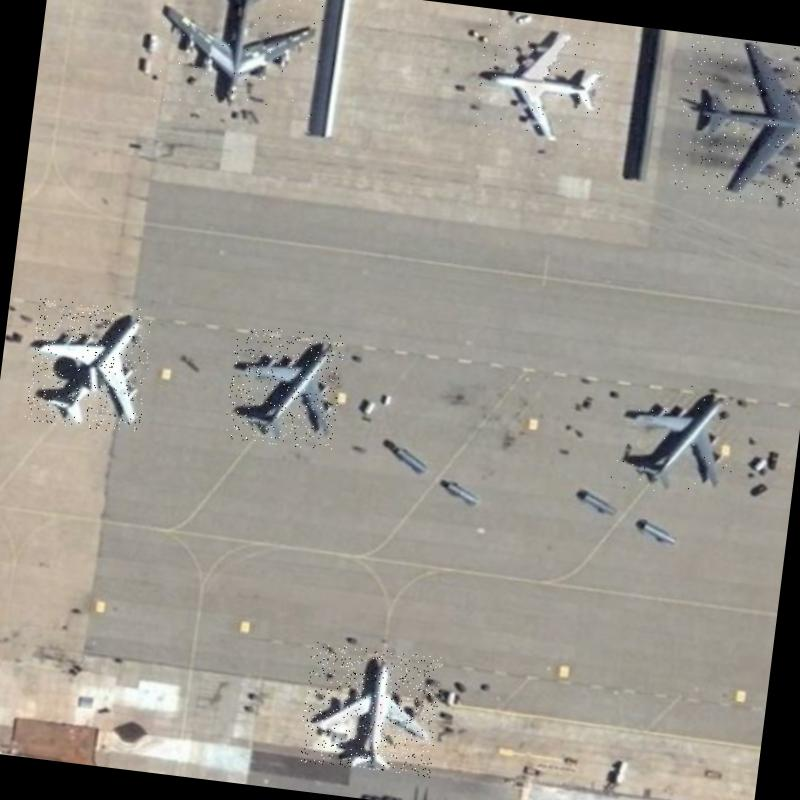A11: (297, 641, 444, 777), (469, 15, 614, 150)
A14: (605, 376, 742, 501), (223, 323, 345, 451)
A7: (24, 296, 155, 434)
A8: (669, 32, 800, 213), (143, 0, 332, 120)
